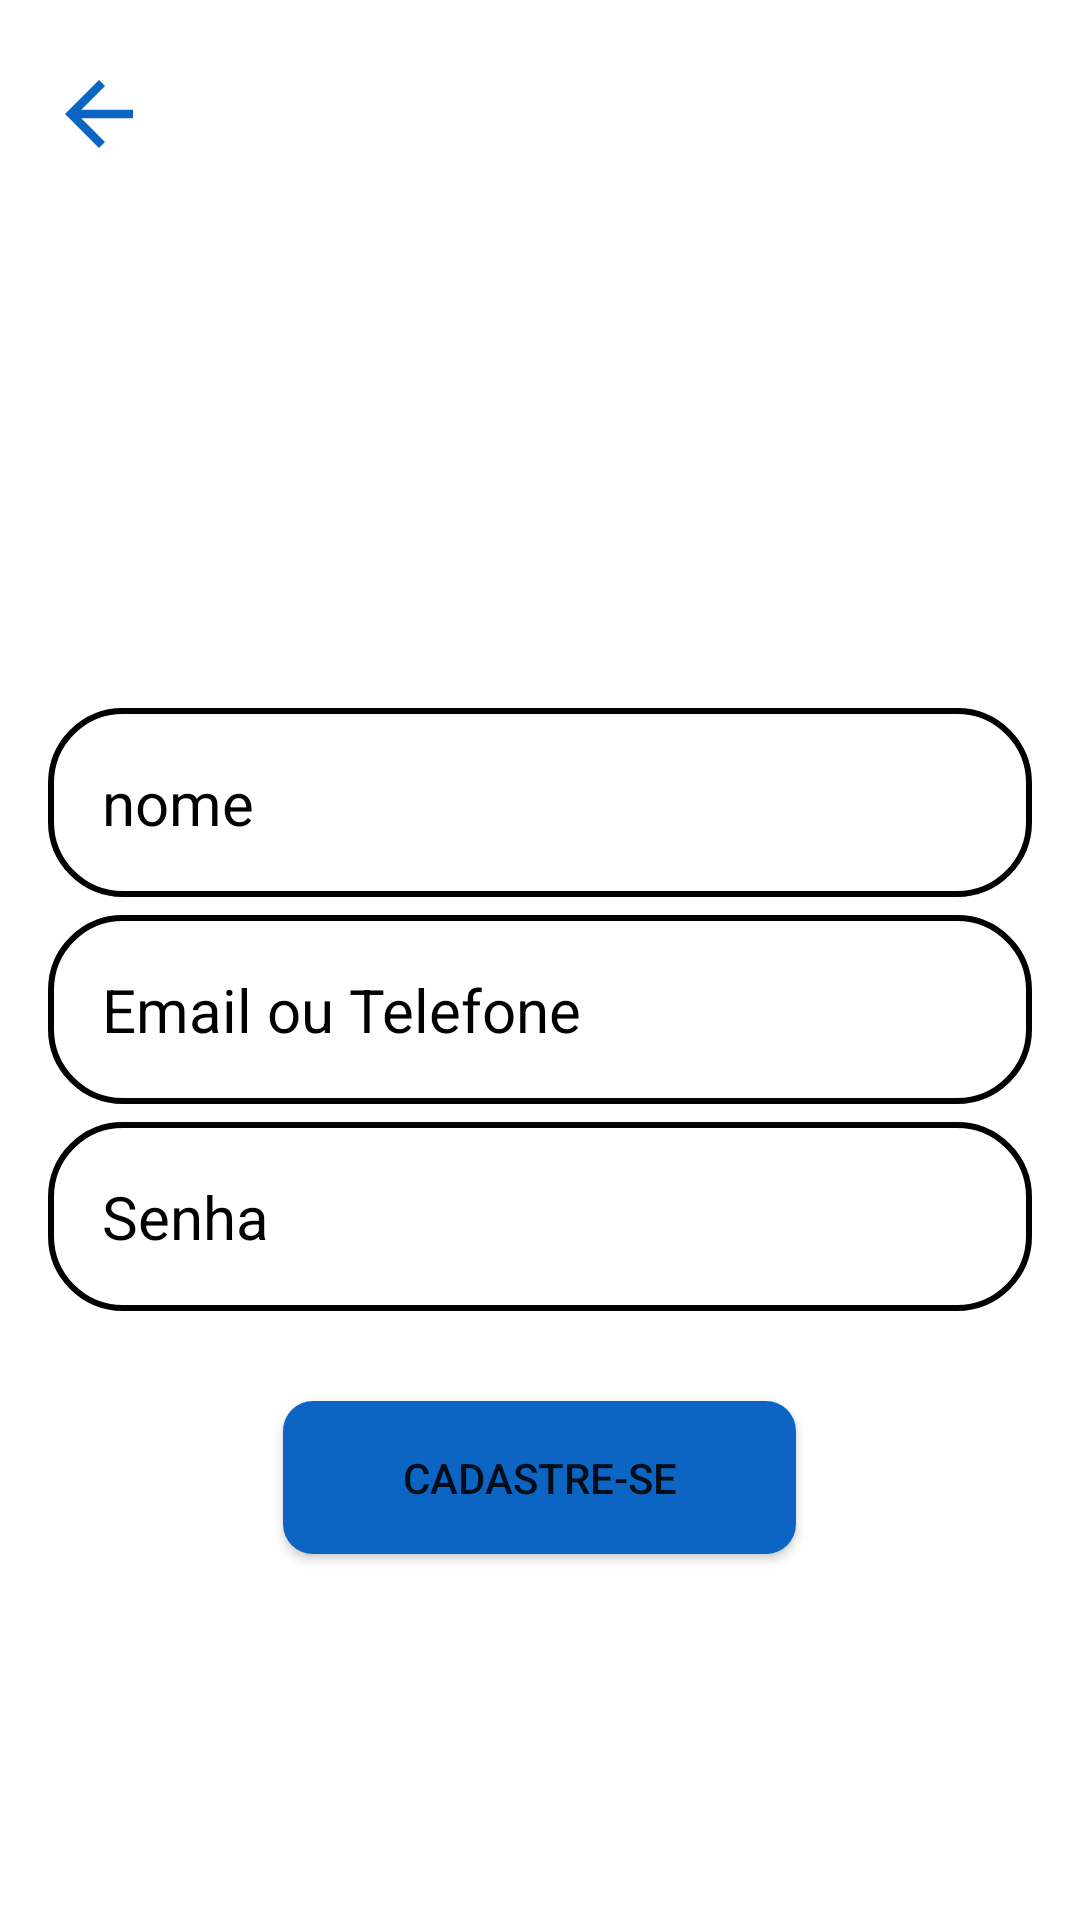

Screen size 1080 × 1920. Icon name, then its center in pixels as point (x, y):
arrow back: point (99, 114)
